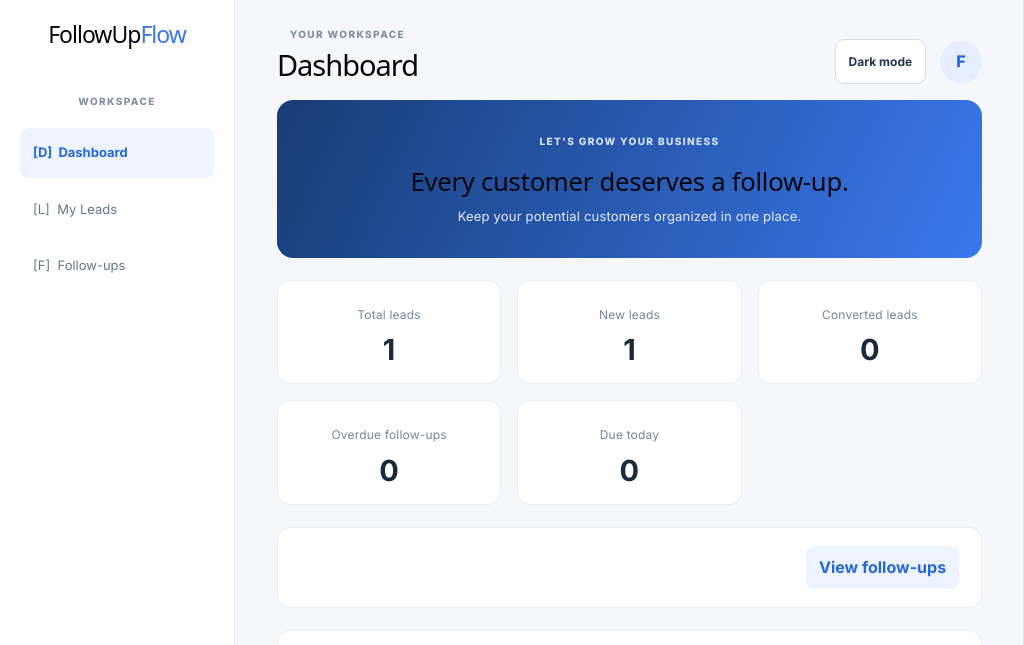
it: WhatsApp links and phone validation › shows a notice instead of opening WhatsApp for an invalid number
This screenshot has width=1024, height=645.
Click the button "[L] My Leads" at (117, 209), box left=20, top=184, right=214, bottom=234
(page scrolled)
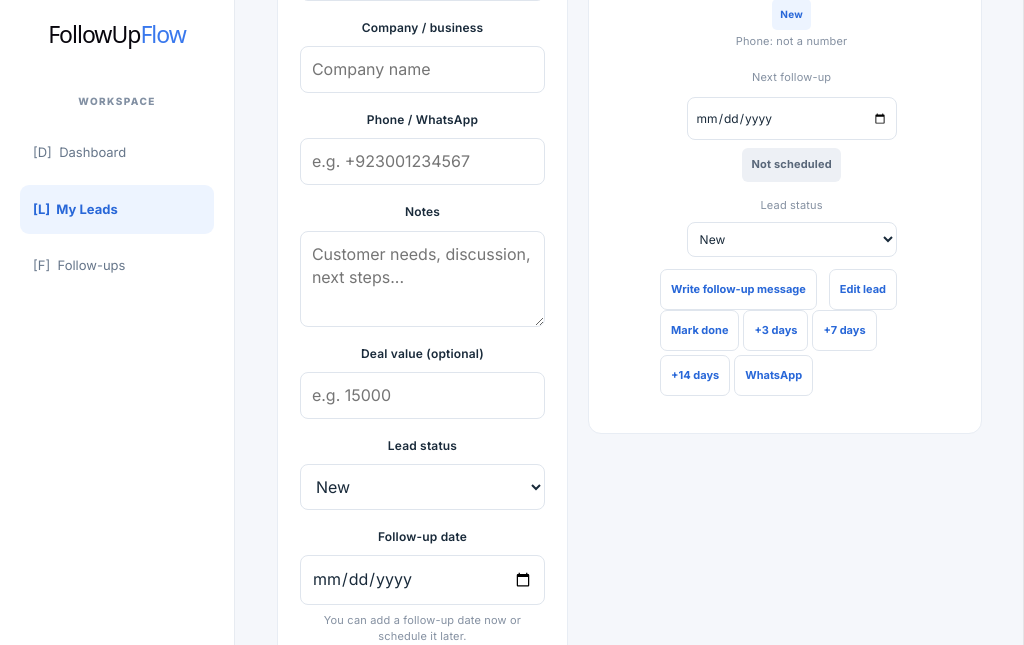
Click the button "WhatsApp" at (774, 376), box left=734, top=355, right=813, bottom=396
(page scrolled)
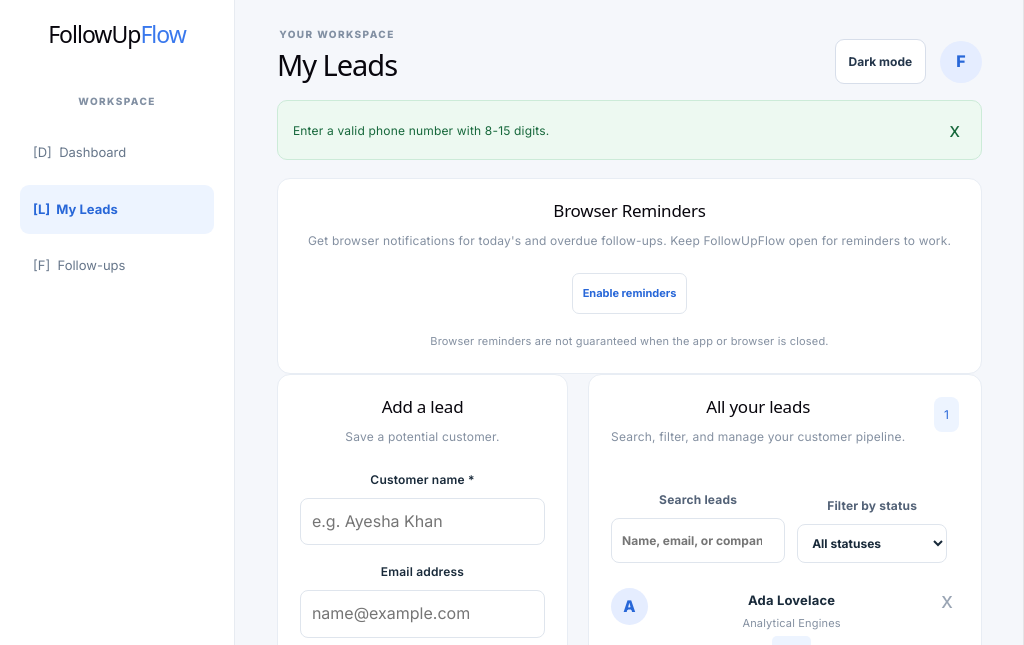
Expected: the text "Enter a valid phone number with 8-15 digits." is shown, left=293, top=121, right=550, bottom=140
